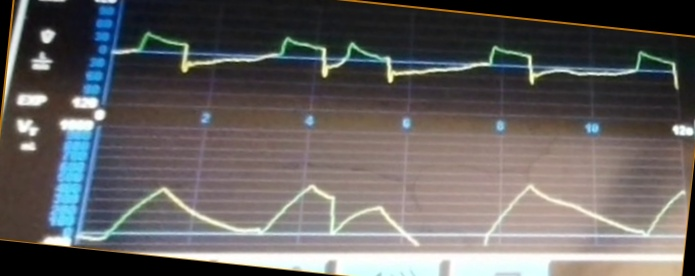Double_Triggering Flow: (117, 29, 678, 109)
Double_Triggering Volume: (92, 171, 682, 250)
